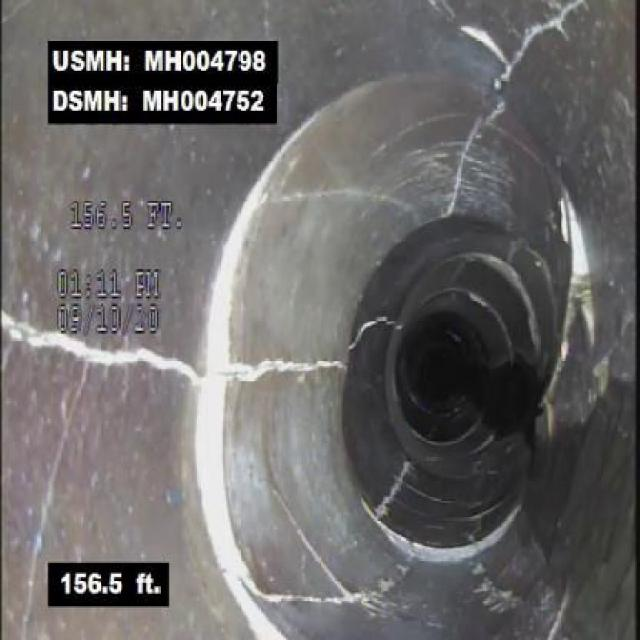Buckling: (549, 185, 603, 380)
Crack: (449, 0, 600, 88), (8, 312, 190, 385), (275, 492, 354, 597), (452, 91, 510, 192), (260, 356, 338, 382)
Joint offset: (186, 200, 266, 357), (192, 389, 255, 586), (377, 514, 526, 561)
